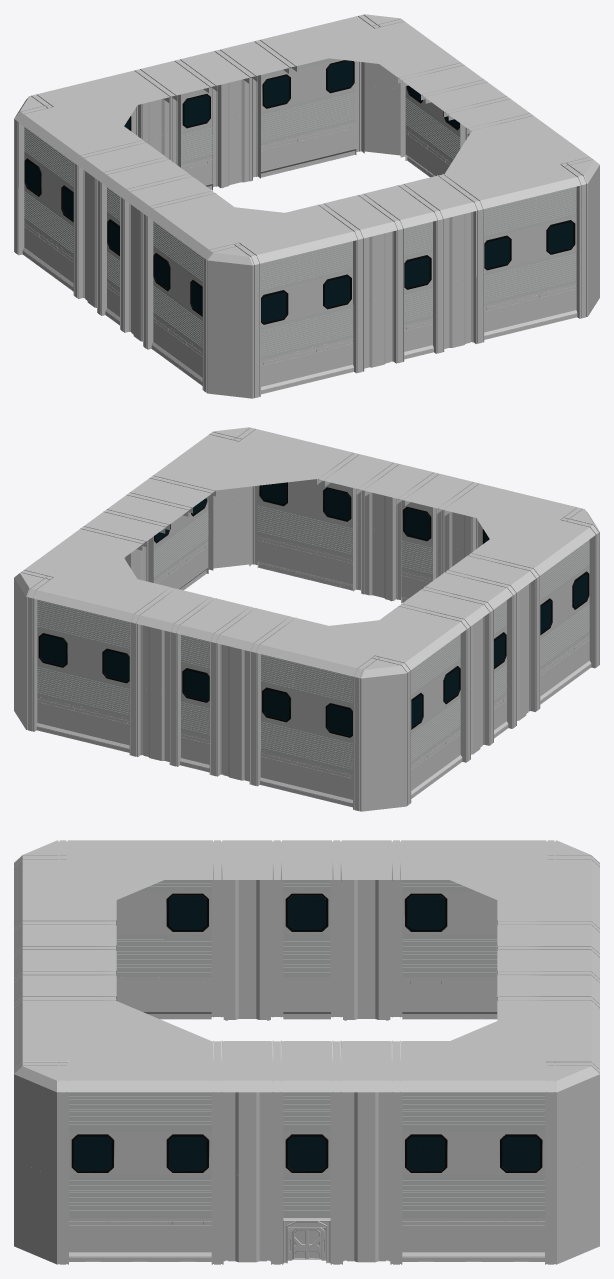
The model's file is RH_MAIN.fbx.
3 renders of one model, top to bottom at view 1: azimuth 30°, elevation 25°; view 2: azimuth 150°, elevation 25°; view 3: azimuth 270°, elevation 25°, orthographic. The views are drawn at different scales.
Parts seen in each view (by area): view 1: roofEdge_1x1.318_wall4b_2x2.000_Cube.532, wall2_2x2.001_Cube.252, wall4b_2x2.000_Cube.001, wall3c_2x4.004_Cube.001, wall4a_2x4.005_Cube.000, beam_0.5x3_Cube.022, roofEdge_1x1.298_wall4b_2x2.000_Cube.002, beam_0.5x3_tri_Cube.109, wall2_2x2.001_Cube.059, beam_0.5x2_Cube.391_beam_0.5x2_Cube.000, beam_0.5x2_Cube.378, beam_0.5x2_Cube.034 (+1 smaller); view 2: roofEdge_1x1.318_wall4b_2x2.000_Cube.532, wall2_2x2.001_Cube.252, wall4b_2x2.000_Cube.001, wall3c_2x4.004_Cube.001, beam_0.5x3_Cube.022, wall4a_2x4.005_Cube.000, roofEdge_1x1.298_wall4b_2x2.000_Cube.002, beam_0.5x3_tri_Cube.109, wall2_2x2.001_Cube.059, beam_0.5x2_Cube.391_beam_0.5x2_Cube.000, beam_0.5x2_Cube.378, beam_0.5x2_Cube.034 (+1 smaller); view 3: roofEdge_1x1.318_wall4b_2x2.000_Cube.532, wall2_2x2.001_Cube.252, wall4b_2x2.000_Cube.001, wall3c_2x4.004_Cube.001, wall4a_2x4.005_Cube.000, roofEdge_1x1.298_wall4b_2x2.000_Cube.002, beam_0.5x3_Cube.022, beam_0.5x3_tri_Cube.109, wall2_2x2.001_Cube.059, beam_0.5x2_Cube.391_beam_0.5x2_Cube.000, beam_0.5x2_Cube.378, door_1x1 (+2 smaller).
Part boxes in pixels (left/top/right/bottom): roofEdge_1x1.318_wall4b_2x2.000_Cube.532: left=15, top=14, right=599, bottom=265; wall2_2x2.001_Cube.252: left=24, top=58, right=576, bottom=360; wall4b_2x2.000_Cube.001: left=83, top=77, right=473, bottom=368; wall3c_2x4.004_Cube.001: left=22, top=122, right=577, bottom=394; wall4a_2x4.005_Cube.000: left=24, top=59, right=576, bottom=326; beam_0.5x3_Cube.022: left=14, top=84, right=587, bottom=398; roofEdge_1x1.298_wall4b_2x2.000_Cube.002: left=207, top=62, right=599, bottom=398; beam_0.5x3_tri_Cube.109: left=14, top=16, right=587, bottom=326; wall2_2x2.001_Cube.059: left=42, top=63, right=544, bottom=319; beam_0.5x2_Cube.391_beam_0.5x2_Cube.000: left=111, top=52, right=502, bottom=218; beam_0.5x2_Cube.378: left=80, top=39, right=533, bottom=231; beam_0.5x2_Cube.034: left=20, top=14, right=593, bottom=256; roofEdge_1x1.318_wall4b_2x2.000_Cube.532: left=14, top=427, right=598, bottom=678; wall2_2x2.001_Cube.252: left=37, top=479, right=589, bottom=773; wall4b_2x2.000_Cube.001: left=130, top=490, right=530, bottom=781; wall3c_2x4.004_Cube.001: left=36, top=535, right=591, bottom=807; beam_0.5x3_Cube.022: left=26, top=497, right=599, bottom=811; wall4a_2x4.005_Cube.000: left=37, top=482, right=589, bottom=739; roofEdge_1x1.298_wall4b_2x2.000_Cube.002: left=14, top=486, right=406, bottom=811; beam_0.5x3_tri_Cube.109: left=26, top=429, right=599, bottom=739; wall2_2x2.001_Cube.059: left=69, top=480, right=571, bottom=732; beam_0.5x2_Cube.391_beam_0.5x2_Cube.000: left=111, top=465, right=502, bottom=631; beam_0.5x2_Cube.378: left=80, top=452, right=533, bottom=644; beam_0.5x2_Cube.034: left=20, top=427, right=593, bottom=670; roofEdge_1x1.318_wall4b_2x2.000_Cube.532: left=14, top=840, right=599, bottom=1092; wall2_2x2.001_Cube.252: left=69, top=880, right=544, bottom=1217; wall4b_2x2.000_Cube.001: left=223, top=880, right=390, bottom=1262; wall3c_2x4.004_Cube.001: left=69, top=977, right=544, bottom=1261; wall4a_2x4.005_Cube.000: left=69, top=891, right=544, bottom=1174; roofEdge_1x1.298_wall4b_2x2.000_Cube.002: left=14, top=1074, right=599, bottom=1264; beam_0.5x3_Cube.022: left=57, top=930, right=556, bottom=1264; beam_0.5x3_tri_Cube.109: left=14, top=880, right=599, bottom=1178; wall2_2x2.001_Cube.059: left=116, top=891, right=497, bottom=1174; beam_0.5x2_Cube.391_beam_0.5x2_Cube.000: left=69, top=860, right=544, bottom=1062; beam_0.5x2_Cube.378: left=22, top=840, right=591, bottom=1081; door_1x1: left=283, top=1218, right=330, bottom=1263.
Size of the model in its own units: 2468 by 837 by 2468.
